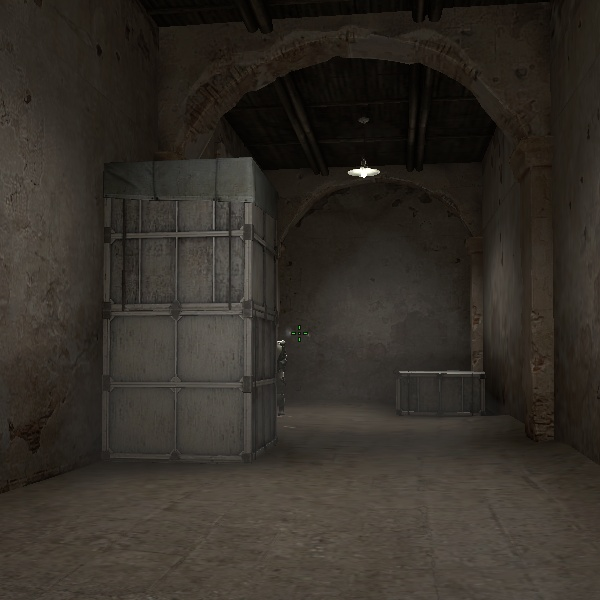ct_body: (273, 335, 297, 423)
